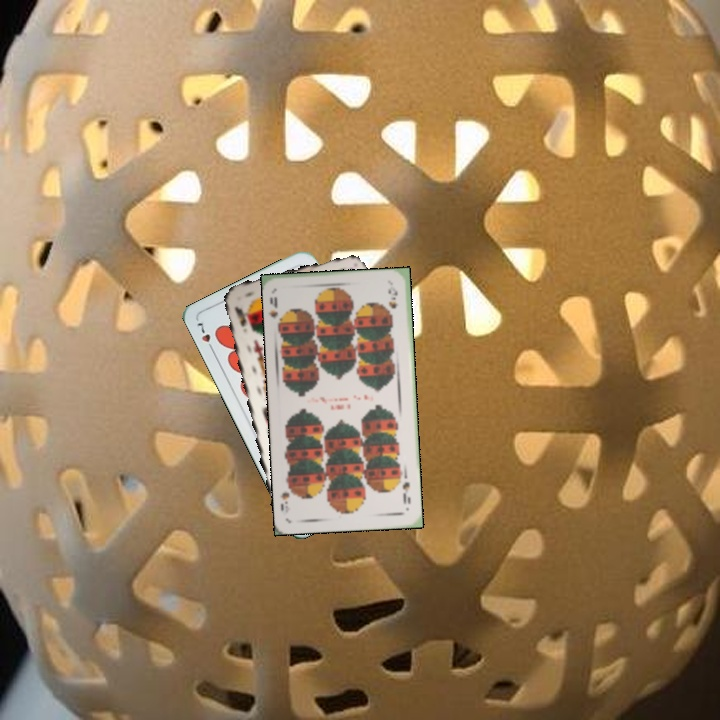H7: (193, 319, 217, 355)
S9: (266, 293, 286, 330), (398, 478, 413, 507)
SK: (231, 302, 249, 329)
